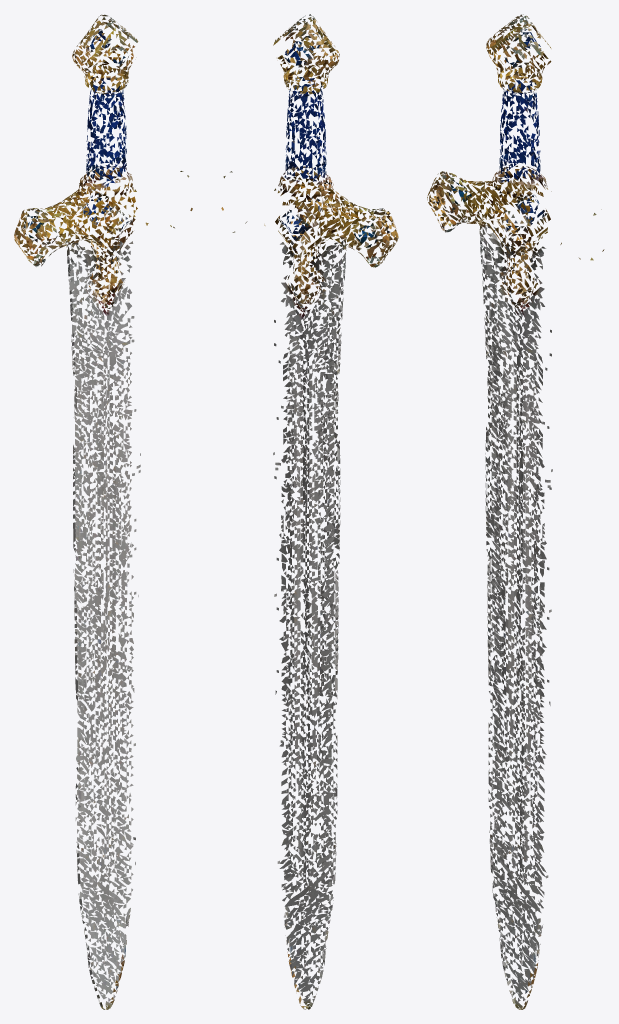
The model's file is w_greatsword.glb.
The picture shows the model from 3 angles, left to right: view 1: azimuth 30°, elevation 25°; view 2: azimuth 150°, elevation 25°; view 3: azimuth 330°, elevation 25°; orthographic projection.
Parts seen in each view (by area): view 1: shape_clean_textured; view 2: shape_clean_textured; view 3: shape_clean_textured.
Part boxes in pixels (left/top/right/bottom): shape_clean_textured: left=14, top=14, right=192, bottom=1009; shape_clean_textured: left=221, top=14, right=398, bottom=1009; shape_clean_textured: left=427, top=14, right=604, bottom=1009.
Size of the model in its own units: 0.3673 by 1.99 by 0.1107.
Materials: 1 (1 with a texture image).
